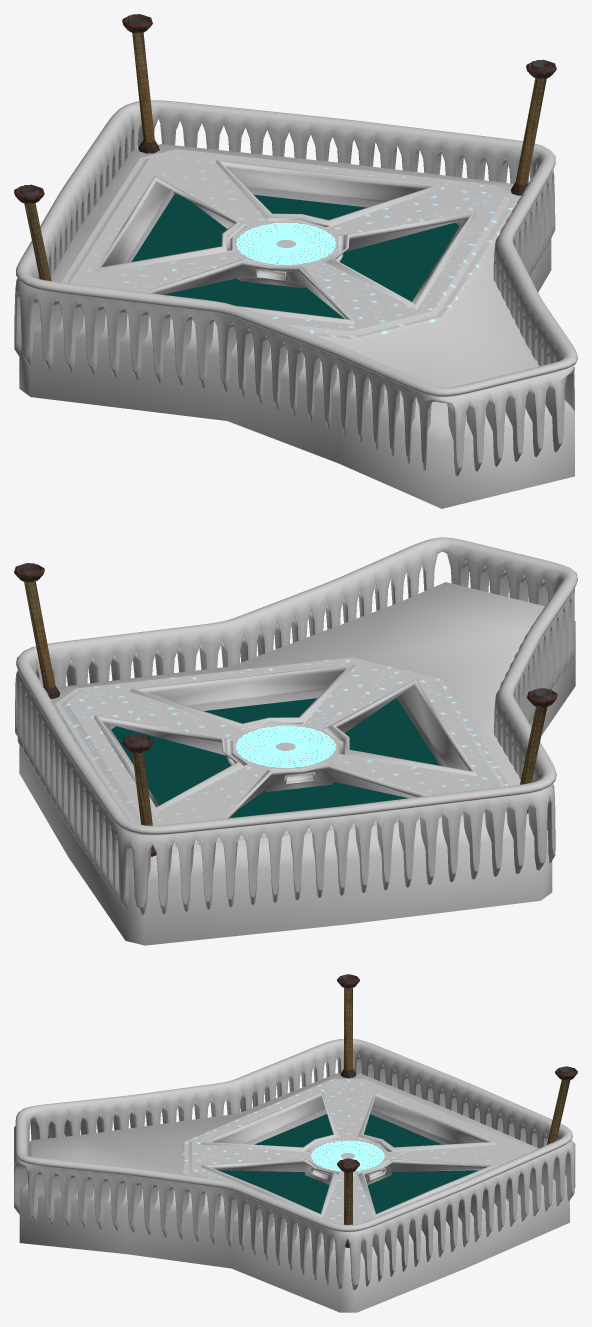
File: SalleSoin.fbx
3 renders of one model, top to bottom at view 1: azimuth 30°, elevation 25°; view 2: azimuth 150°, elevation 25°; view 3: azimuth 270°, elevation 25°, orthographic. The views are drawn at different scales.
Visible parts, largest first — view 1: Sol, Sol.004, Eau, Colonne.005, Colonne.006, Colonne.007; view 2: Sol, Sol.004, Eau, Colonne.006, Colonne.005, Colonne.007; view 3: Sol, Sol.004, Eau, Colonne.007, Colonne.005, Colonne.006.
Boxes of the visible parts, <box> form: Sol: <box>19,144,574,508</box>; Sol.004: <box>14,100,577,476</box>; Eau: <box>131,194,459,318</box>; Colonne.005: <box>122,14,159,153</box>; Colonne.006: <box>510,59,556,195</box>; Colonne.007: <box>14,184,51,280</box>; Sol: <box>19,582,575,945</box>; Sol.004: <box>15,537,577,914</box>; Eau: <box>111,698,439,817</box>; Colonne.006: <box>14,563,60,698</box>; Colonne.005: <box>122,734,156,856</box>; Colonne.007: <box>520,688,557,813</box>; Sol: <box>19,1073,569,1312</box>; Sol.004: <box>14,1039,575,1289</box>; Eau: <box>218,1114,478,1213</box>; Colonne.007: <box>337,974,359,1078</box>; Colonne.005: <box>547,1066,577,1144</box>; Colonne.006: <box>337,1158,359,1247</box>.
Size of the model in its own units: 5547 by 1998 by 6817.
